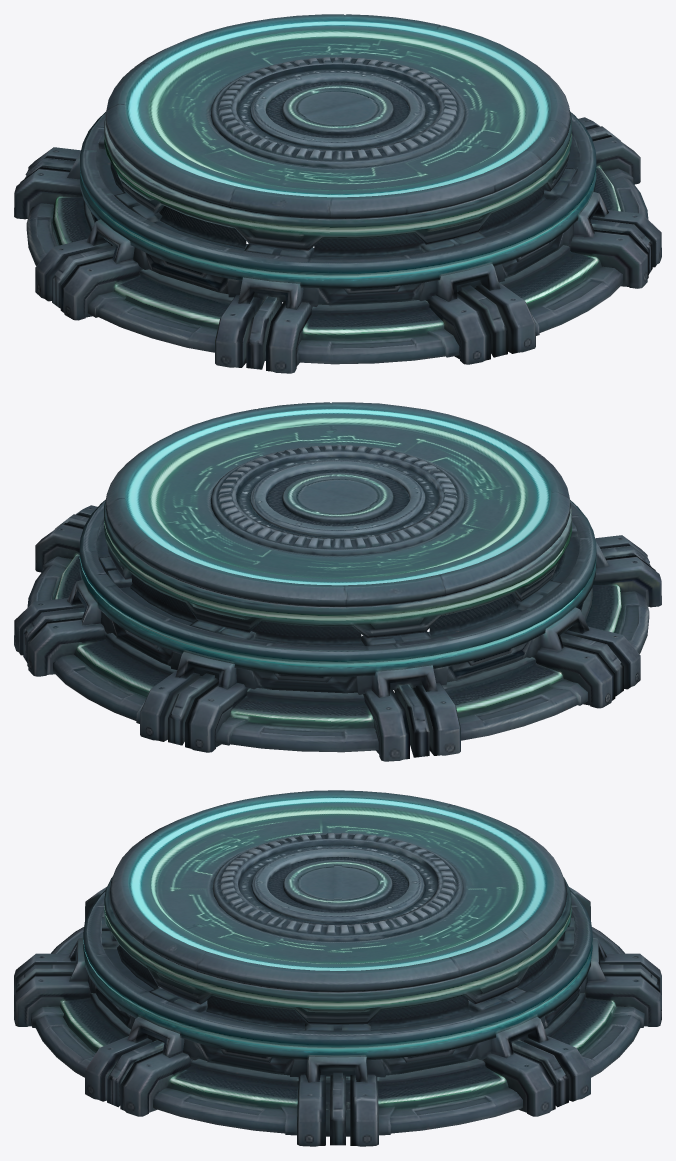
Rendered from tripo_convert_6c852c7f-0341-4bd1-9c54-f0ceeb5f06e6.fbx.
3 renders of one model, top to bottom at view 1: azimuth 30°, elevation 25°; view 2: azimuth 150°, elevation 25°; view 3: azimuth 270°, elevation 25°, orthographic.
Visible parts, largest first — view 1: tripo_node_6c852c7f; view 2: tripo_node_6c852c7f; view 3: tripo_node_6c852c7f.
Part boxes in pixels (<box>): tripo_node_6c852c7f: <box>14,14,661,373</box>; tripo_node_6c852c7f: <box>14,402,661,761</box>; tripo_node_6c852c7f: <box>14,790,661,1146</box>.
Bounding box in the file's own units: 0.9995 × 0.2339 × 0.9995.
Materials: 1 (1 with a texture image).
